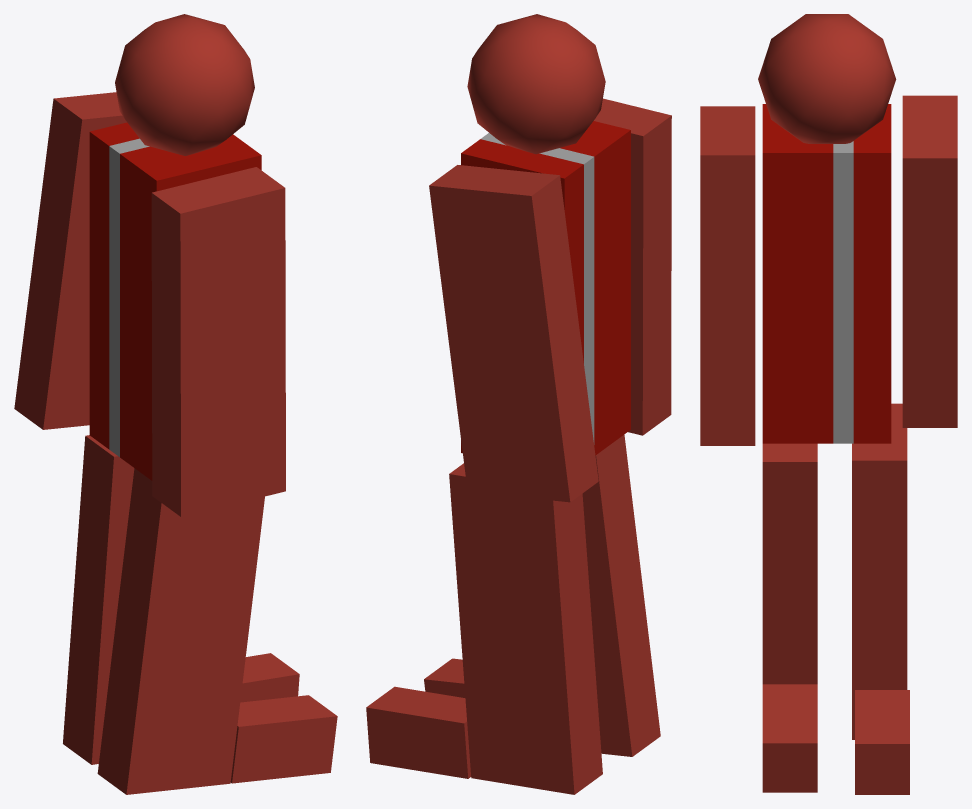
File: player_000076.obj
3 renders of one model, left to right at view 1: azimuth 30°, elevation 25°; view 2: azimuth 150°, elevation 25°; view 3: azimuth 270°, elevation 25°, orthographic. The views are drawn at different scales.
Parts seen in each view (by area): view 1: Cube.013, Cube.010, Cube.007, Cube.012, Icosphere.001, Cube.008, Cube.011, Cube.009; view 2: Cube.012, Cube.008, Cube.007, Cube.010, Icosphere.001, Cube.013, Cube.009, Cube.011; view 3: Cube.007, Cube.013, Cube.012, Cube.008, Icosphere.001, Cube.010, Cube.011, Cube.009.
Boxes of the visible parts, left/top/right/bottom form: Cube.013: left=151, top=167, right=285, bottom=516; Cube.010: left=97, top=468, right=264, bottom=794; Cube.007: left=89, top=122, right=261, bottom=480; Cube.012: left=14, top=92, right=126, bottom=429; Icosphere.001: left=115, top=14, right=254, bottom=155; Cube.008: left=63, top=435, right=134, bottom=764; Cube.011: left=230, top=695, right=337, bottom=783; Cube.009: left=240, top=653, right=299, bottom=702; Cube.012: left=429, top=165, right=598, bottom=502; Cube.008: left=449, top=463, right=602, bottom=794; Cube.007: left=461, top=121, right=630, bottom=455; Cube.010: left=582, top=434, right=660, bottom=756; Icosphere.001: left=467, top=14, right=605, bottom=154; Cube.013: left=594, top=98, right=671, bottom=435; Cube.009: left=366, top=686, right=470, bottom=778; Cube.011: left=424, top=658, right=465, bottom=697; Cube.007: left=762, top=104, right=891, bottom=443; Cube.013: left=700, top=106, right=755, bottom=445; Cube.012: left=902, top=95, right=957, bottom=427; Cube.008: left=852, top=403, right=907, bottom=739; Icosphere.001: left=758, top=14, right=896, bottom=143; Cube.010: left=762, top=443, right=817, bottom=684; Cube.011: left=762, top=684, right=817, bottom=792; Cube.009: left=855, top=690, right=909, bottom=794.
Bounding box in the file's own units: 0.9091 × 2.83 × 0.9137.
